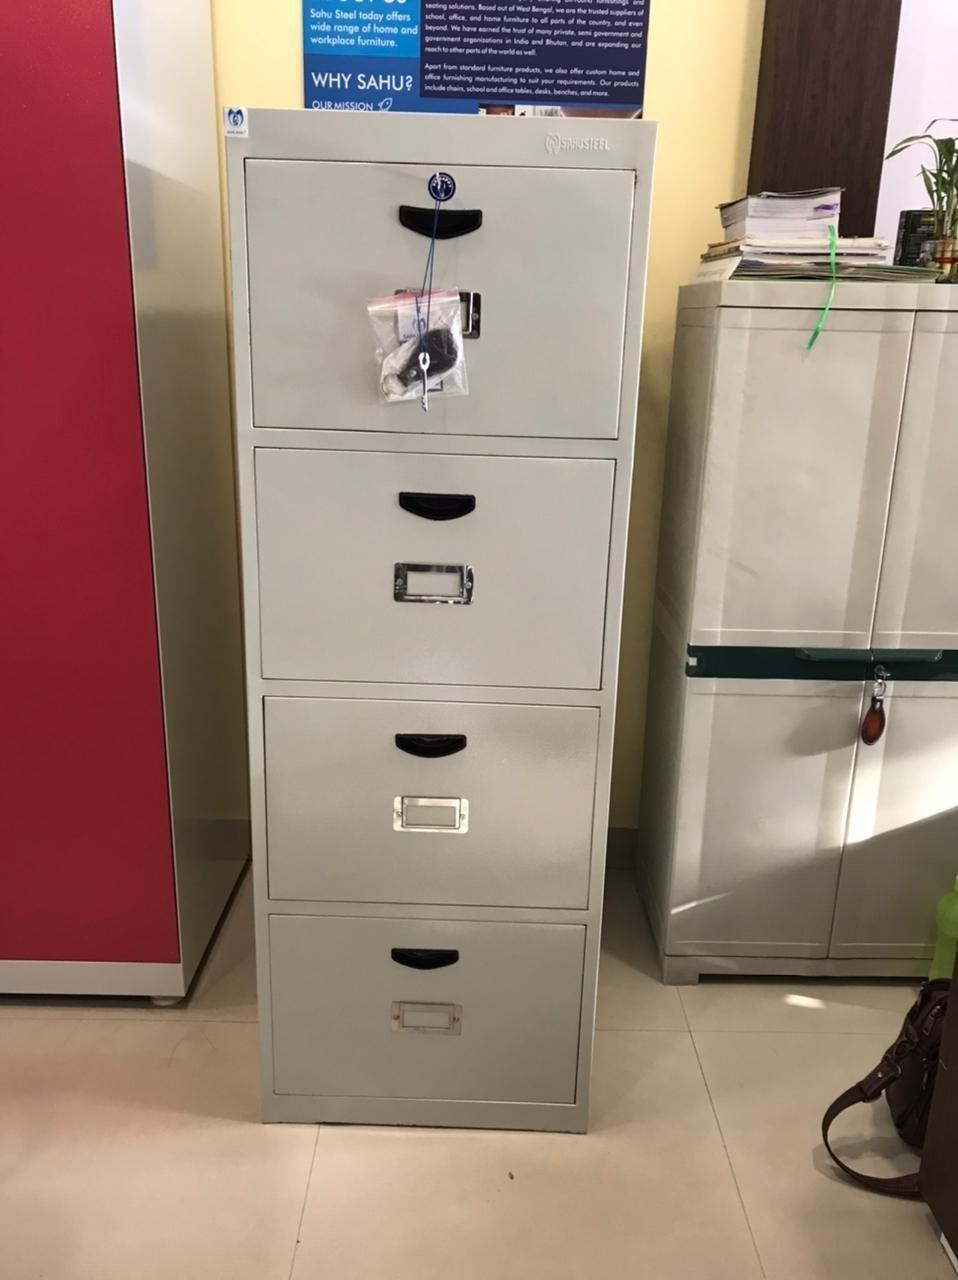Filing Cabinet: (220, 106, 657, 1136)
